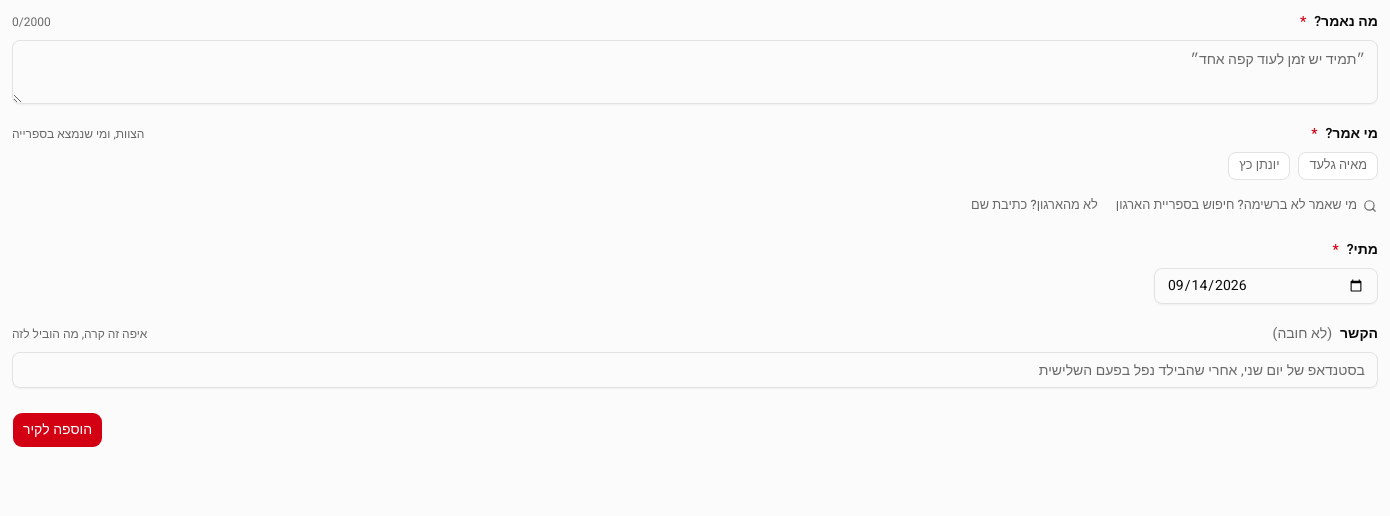
Test: QuoteForm — creating › blocks submission and names the missing fields in Hebrew
Click the button "הוספה לקיר": {"x": 58, "y": 430} x1=12 y1=412 x2=103 y2=448
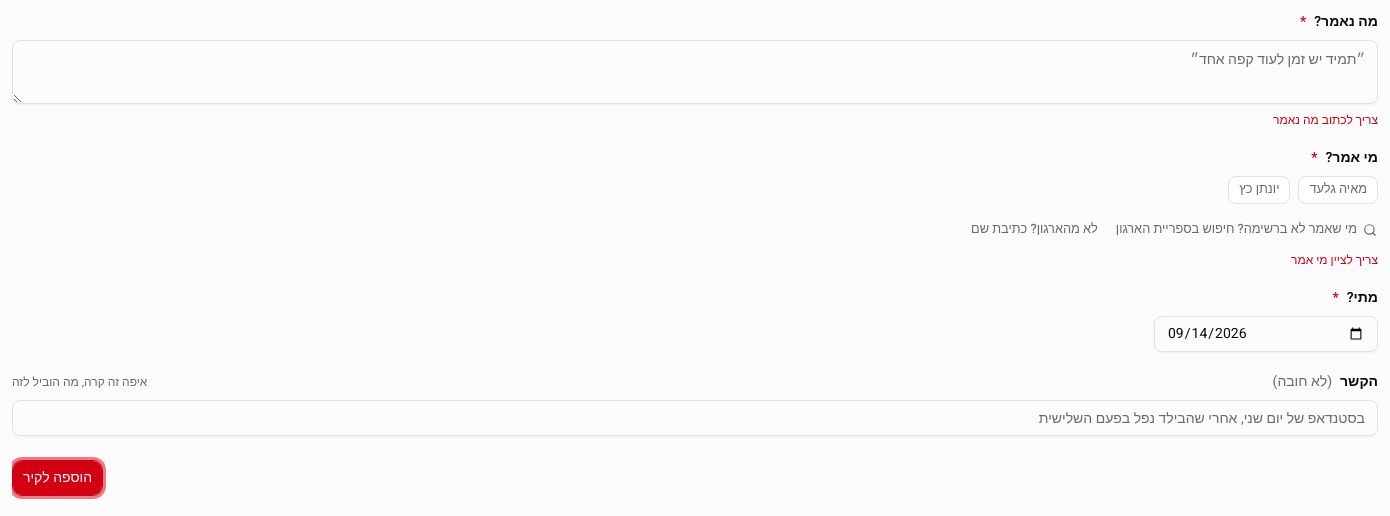
Expected: the text "צריך לכתוב מה נאמר" is shown, x1=1273 y1=111 x2=1378 y2=129
Expected: the text "צריך לציין מי אמר" is shown, x1=1291 y1=251 x2=1378 y2=269
